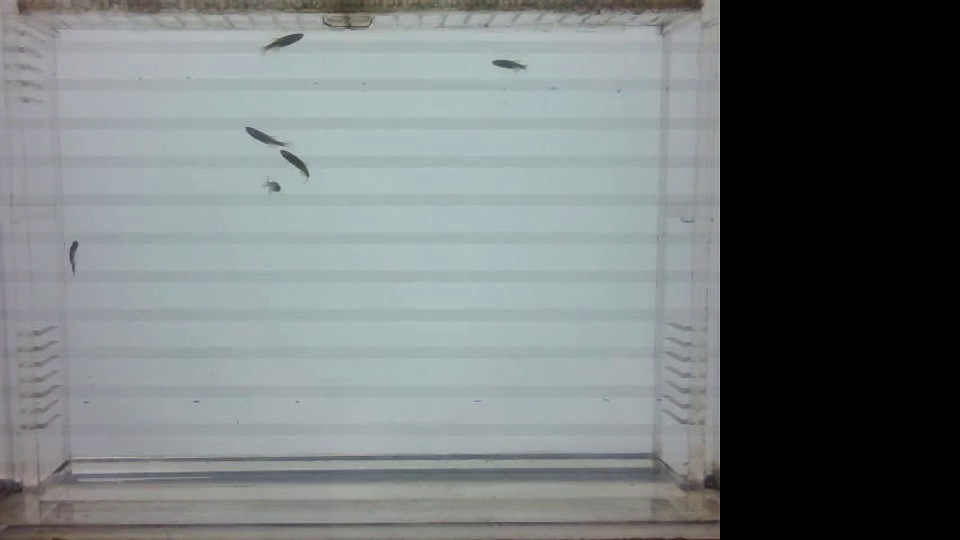fish: (272, 144, 316, 186), (252, 28, 308, 56), (236, 124, 288, 148), (488, 53, 529, 78), (66, 232, 84, 284), (258, 174, 288, 205)
